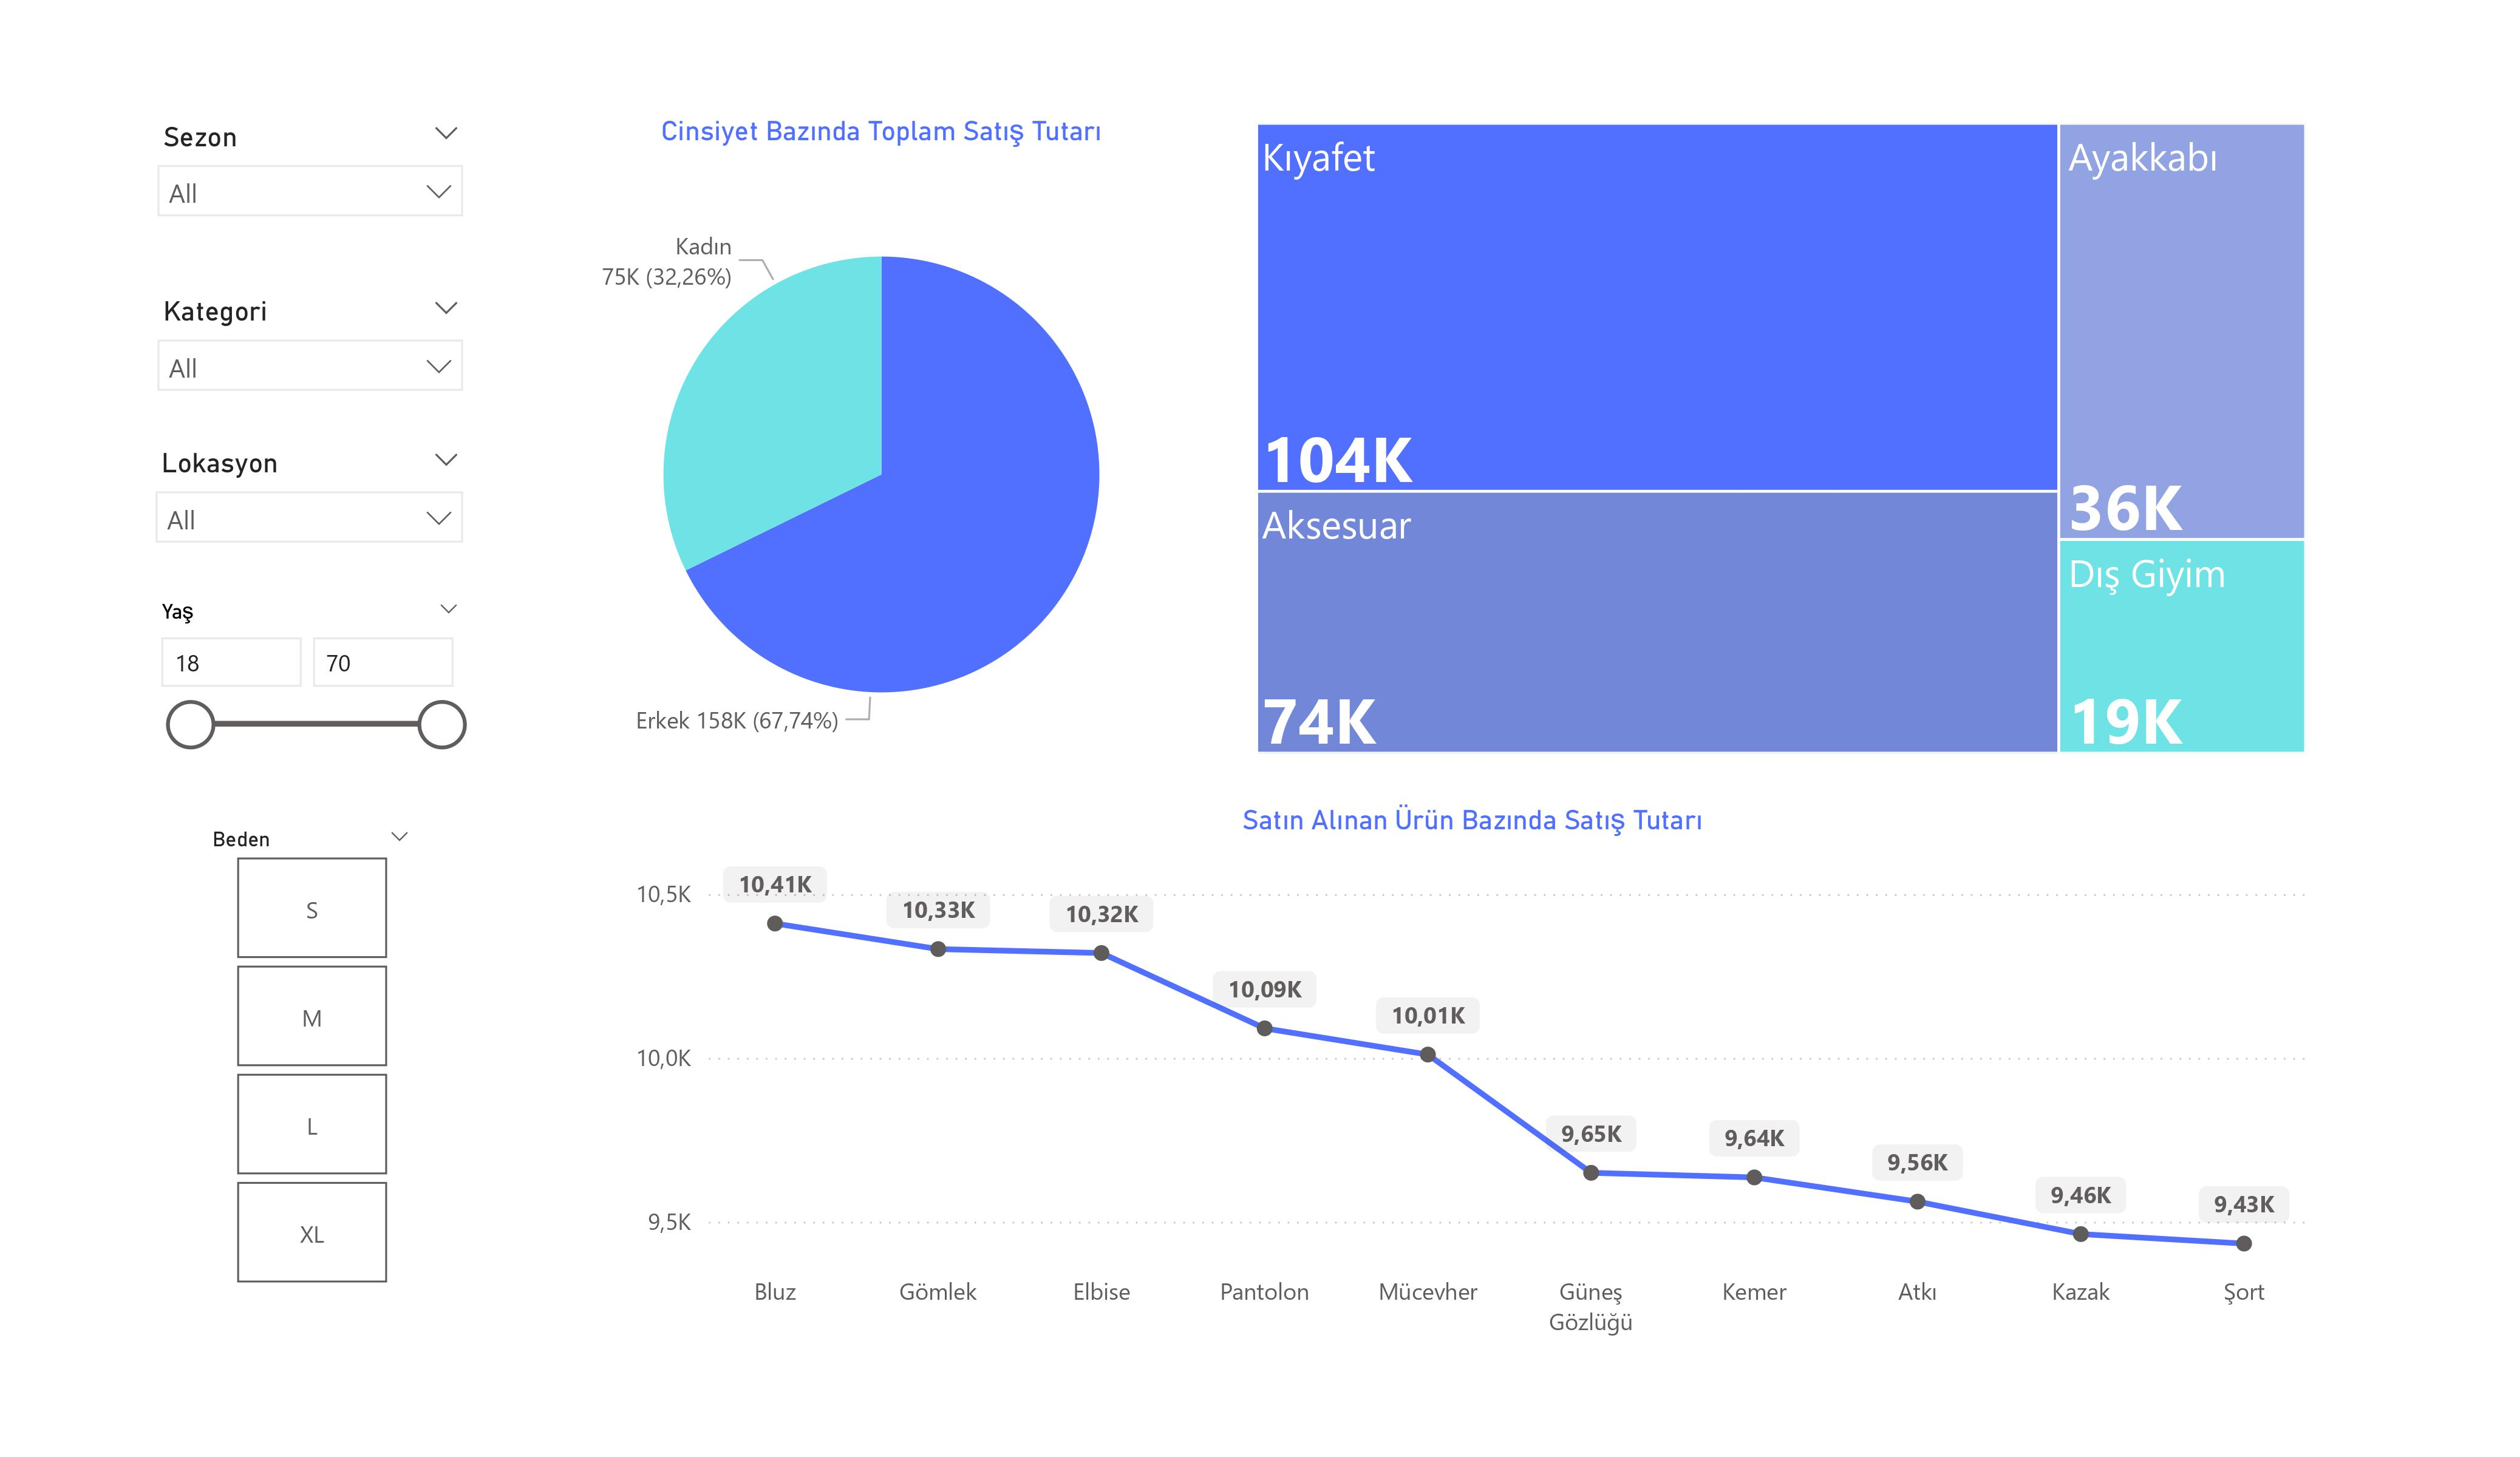

What the dashboard file says about the page in this screenshot:
{"tool":"powerbi","page":{"name":"Kategori-Ürün Analizi","canvas":[1280,720],"ordinal":2},"visuals":[{"type":"treemap","fields":{"Values":["Sum(Satış.Purchase Amount (USD))"],"Group":["Item Purchased.Kategori"]},"box":[631,36.2,564.6,341.4],"z":0},{"type":"pieChart","title":"Cinsiyet Bazında Toplam Satış Tutarı","fields":{"Y":["Sum(Satış.Purchase Amount (USD))"],"Category":["Gender.Cinsiyet"]},"box":[242.5,36.2,396.9,363.1],"z":1000},{"type":"lineChart","title":"Satın Alınan Ürün Bazında Satış Tutarı","fields":{"Category":["Item Purchased.Satın Alınan Ürün"],"Y":["Sum(Satış.Purchase Amount (USD))"]},"box":[300,398.8,903.7,288.9],"z":2000},{"type":"slicer","fields":{"Values":["Season.Sezon"]},"box":[49.5,35,181,63.9],"z":3000},{"type":"slicer","fields":{"Values":["Item Purchased.Kategori"]},"box":[49.5,126.7,181,66.4],"z":4000},{"type":"slicer","fields":{"Values":["Satış.Lokasyon"]},"box":[48.1,207.4,181.5,67.9],"z":5000},{"type":"slicer","fields":{"Values":["Satış.Age"]},"box":[48.1,286.4,181.5,100],"z":6000},{"type":"slicer","fields":{"Values":["Satış.Size"]},"box":[75.3,407.4,128.4,251.9],"z":7000}]}

Visuals, with their boxes on the page's 1280x720 design canvas (x1, y1, x2, y2). These are canvas units, not pixel positions in the 2520x1457 screenshot, which may show the page scaled, cropped or inside an application window:
treemap - Sum(Satış.Purchase Amount (USD)) x Item Purchased.Kategori: locate(631, 36, 1196, 378)
"Cinsiyet Bazında Toplam Satış Tutarı" pieChart: locate(242, 36, 639, 399)
"Satın Alınan Ürün Bazında Satış Tutarı" lineChart: locate(300, 399, 1204, 688)
slicer - Season.Sezon: locate(50, 35, 230, 99)
slicer - Item Purchased.Kategori: locate(50, 127, 230, 193)
slicer - Satış.Lokasyon: locate(48, 207, 230, 275)
slicer - Satış.Age: locate(48, 286, 230, 386)
slicer - Satış.Size: locate(75, 407, 204, 659)
